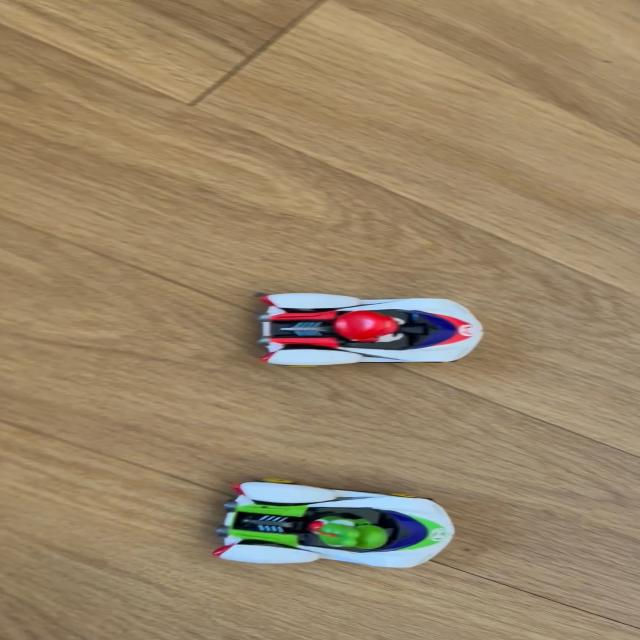mario: (235, 282, 497, 370)
yoshi: (195, 475, 468, 577)
